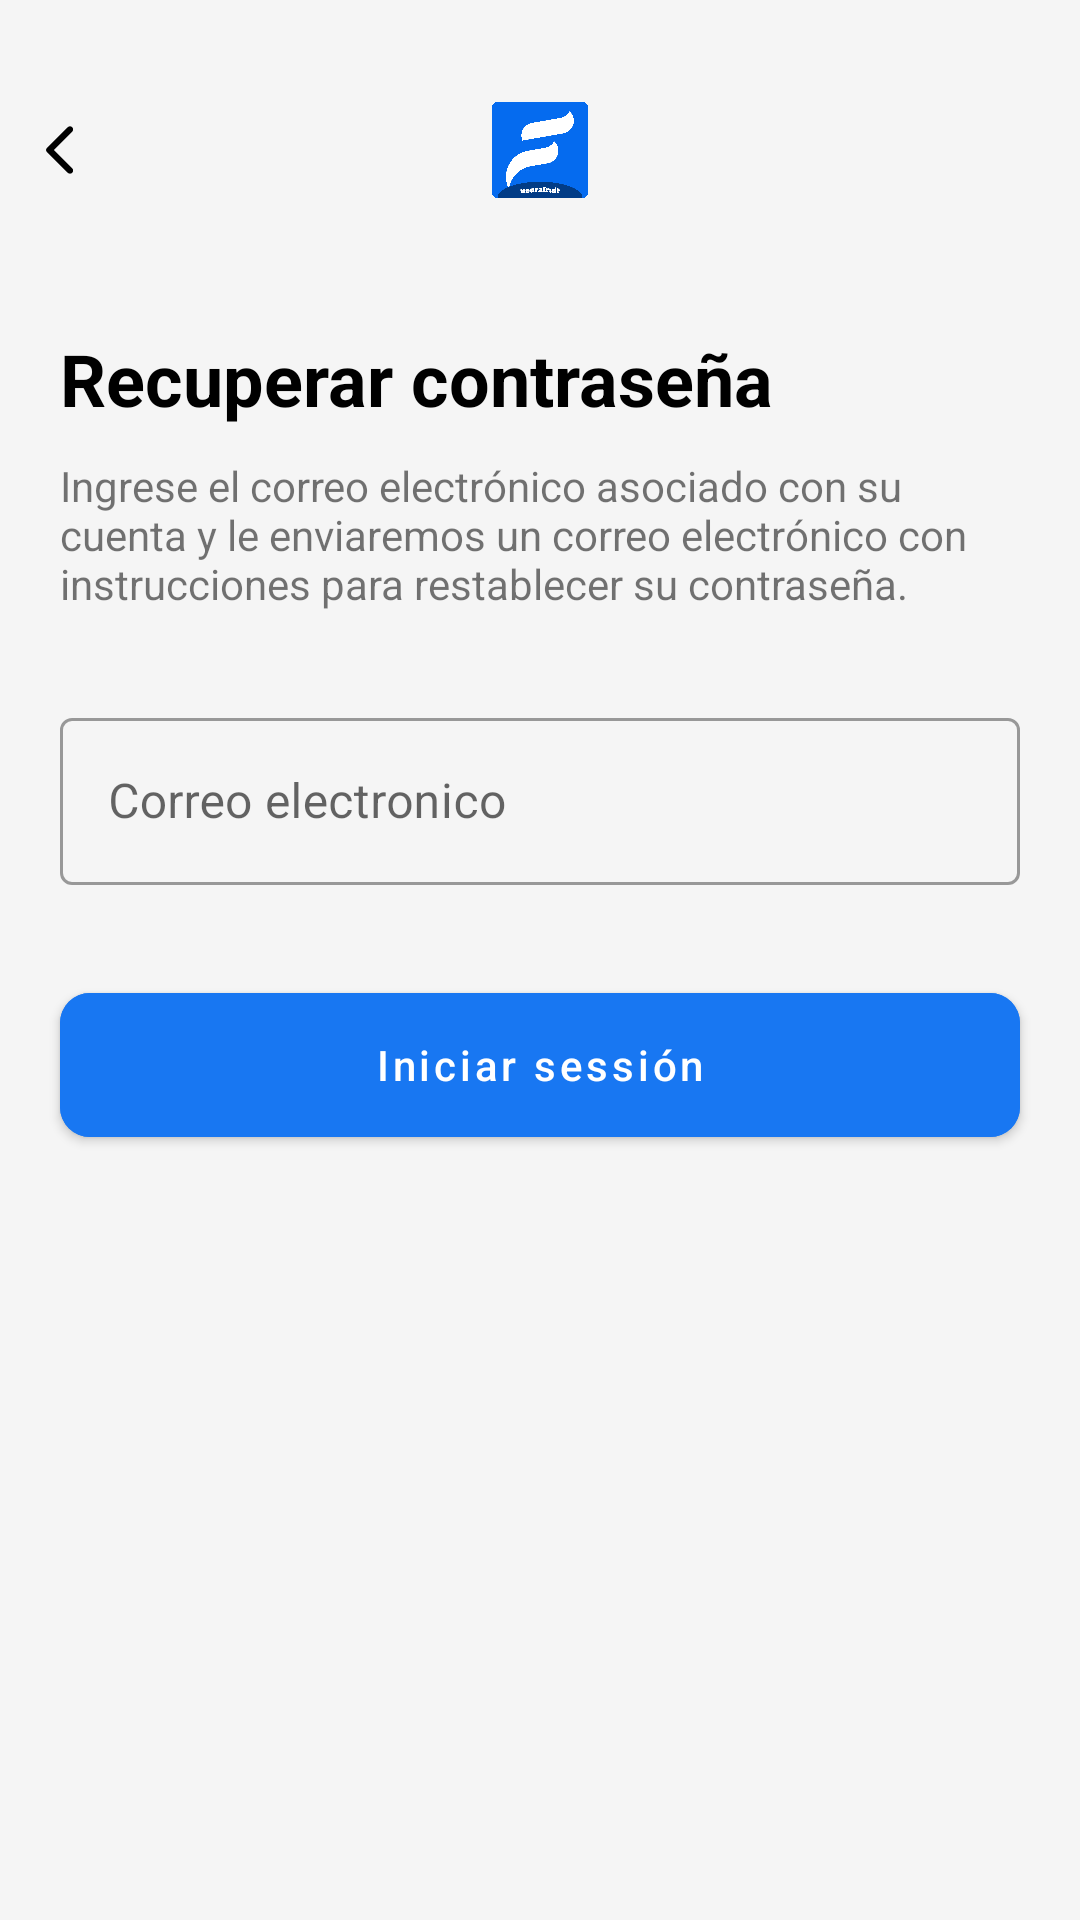

Screen size 1080×1920. Icon name, then its center in pixels as (x,y):
back: (59,150)
